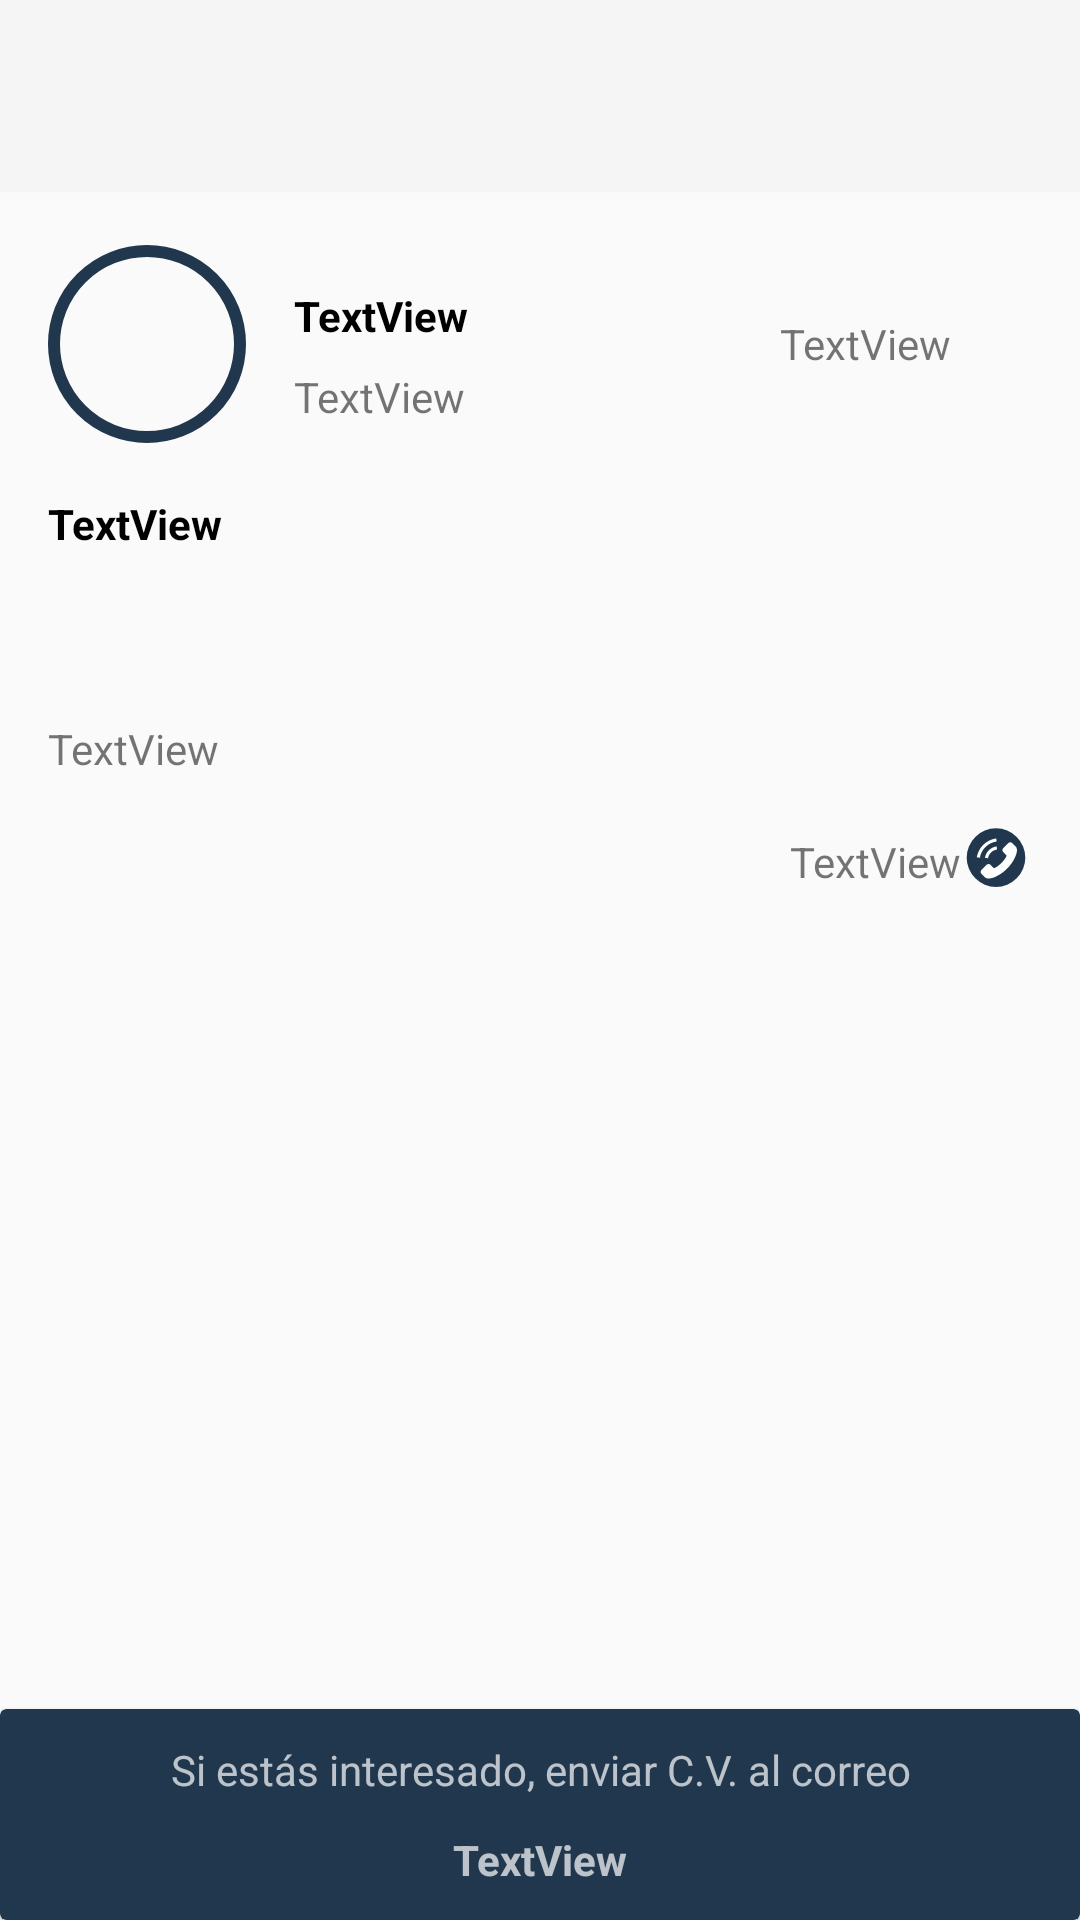

Icon bounding boxes for this 1080 × 1920 phone screenshot, format (x1, y1, x2, y2):
phone: (966, 828, 1026, 887)
